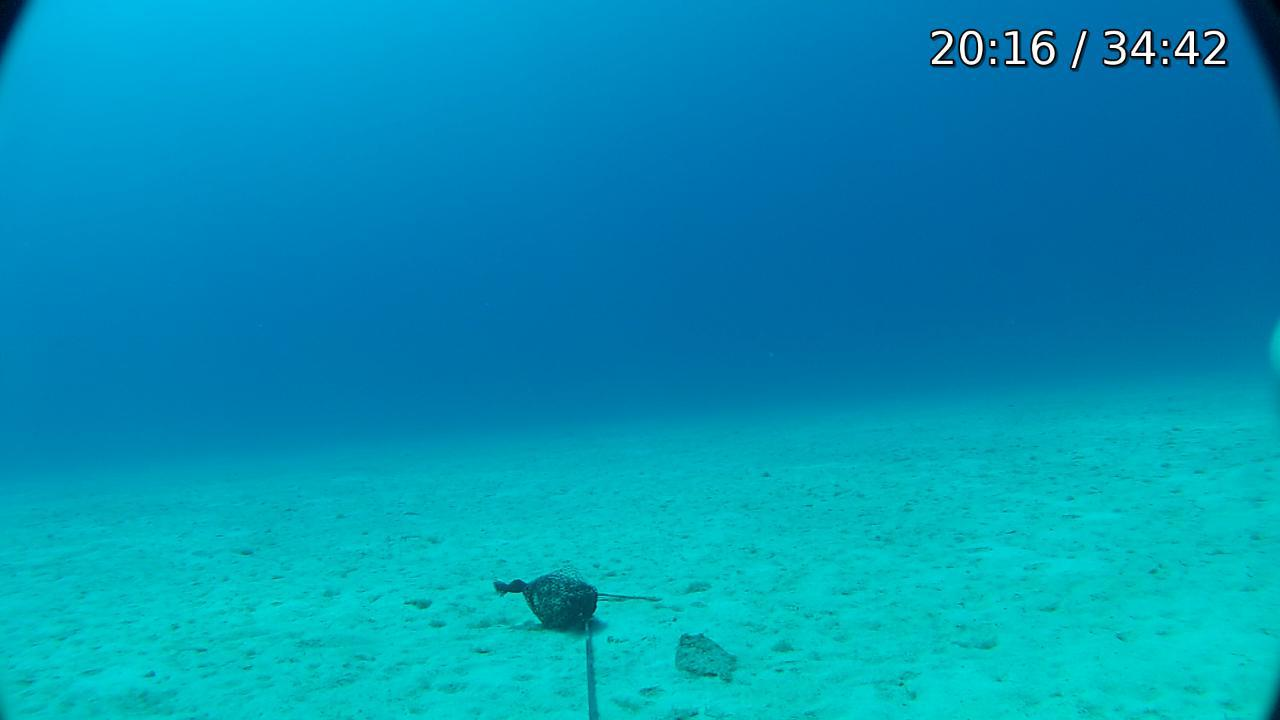bothus: (670, 624, 742, 685)
